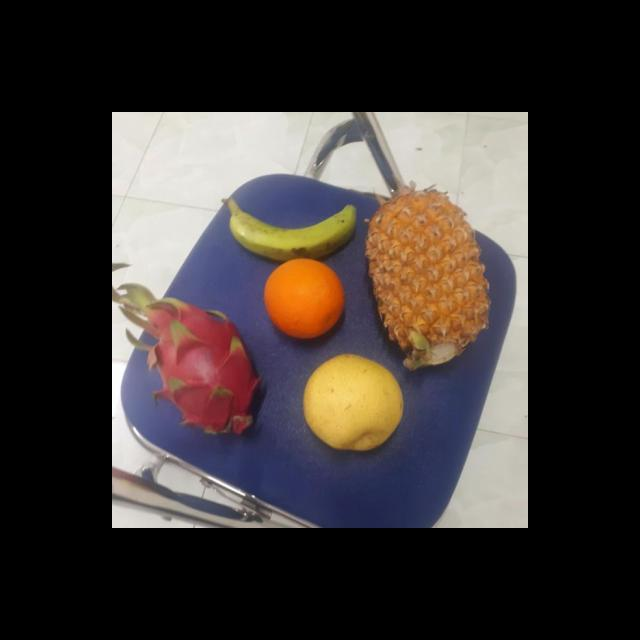banana: (230, 179, 360, 261)
orange: (264, 258, 348, 339)
pear: (304, 356, 406, 450)
pineapple: (366, 194, 488, 360)
pitaya: (142, 305, 268, 439)
